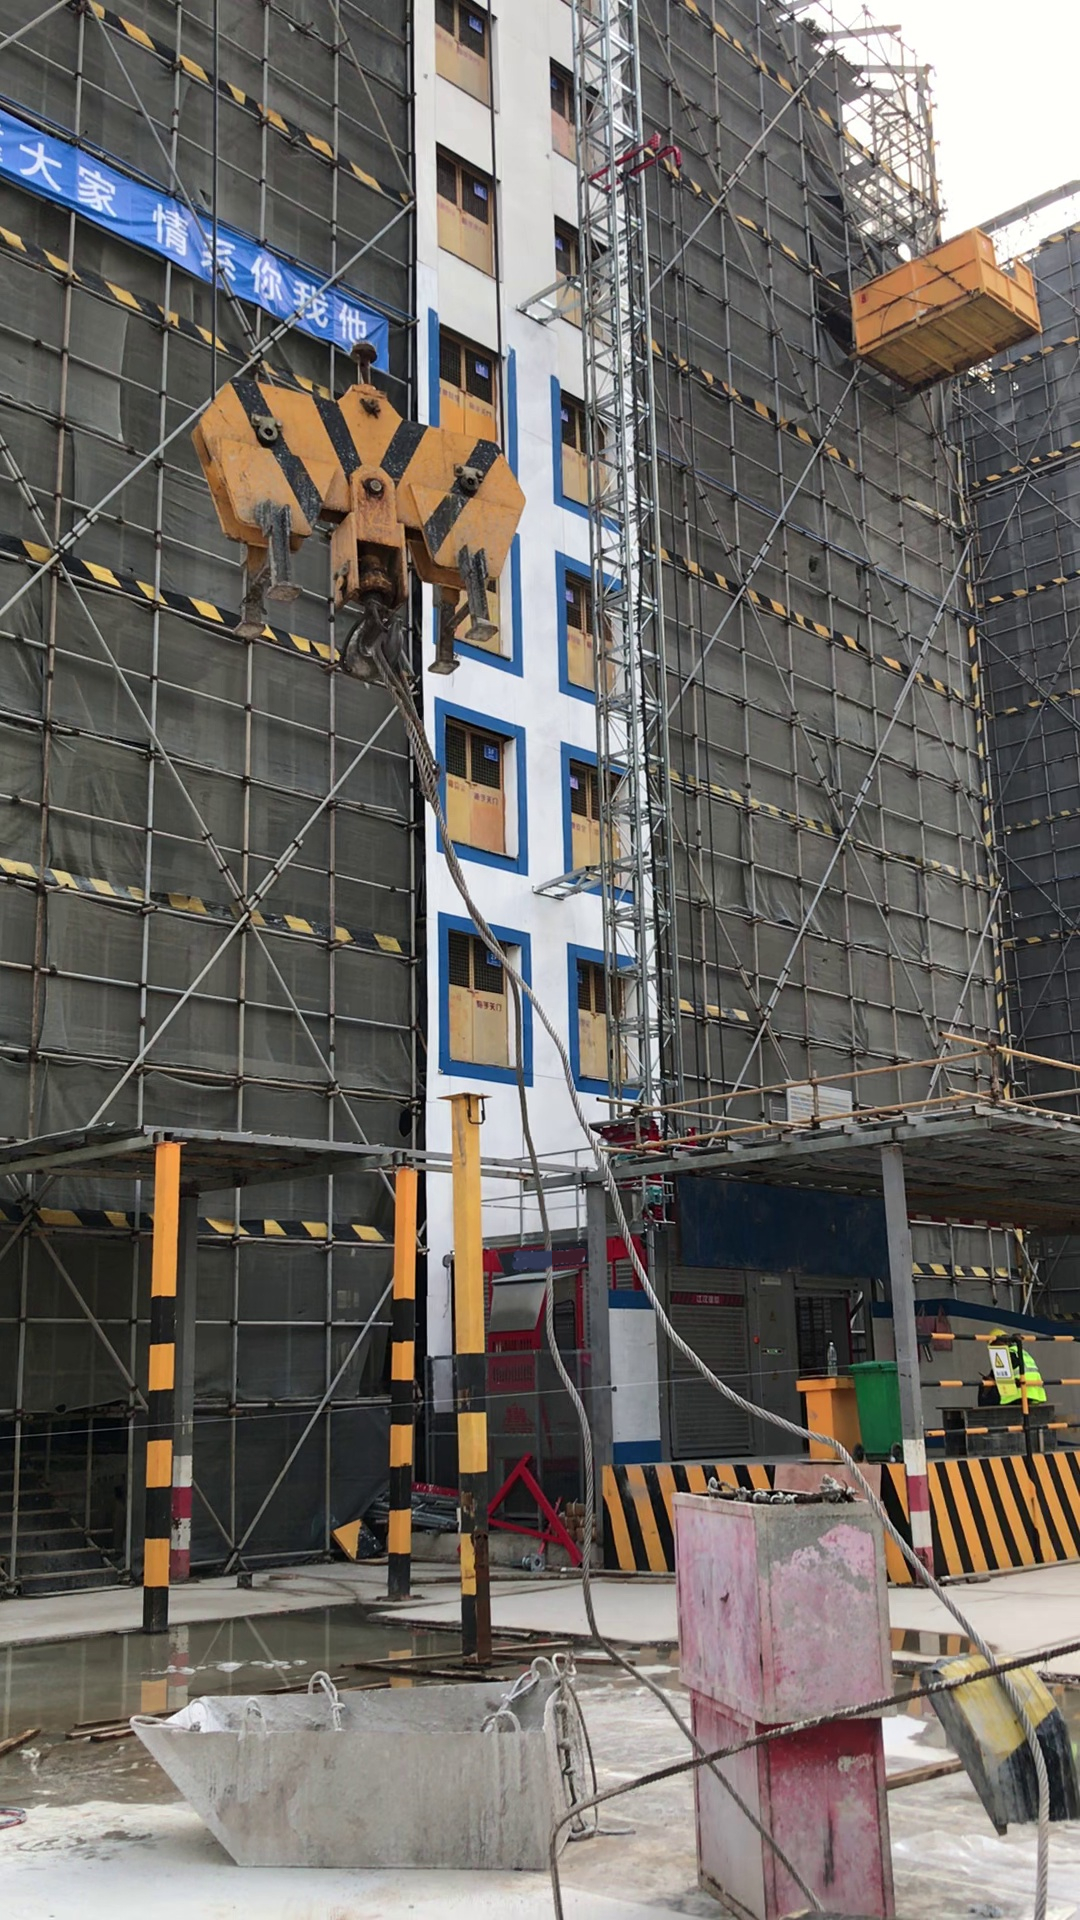ebox: (790, 1364, 856, 1457)
hook: (195, 305, 543, 665)
hopper: (111, 1644, 605, 1880)
slogan: (1, 127, 407, 380)
vest: (1000, 1349, 1044, 1400)
